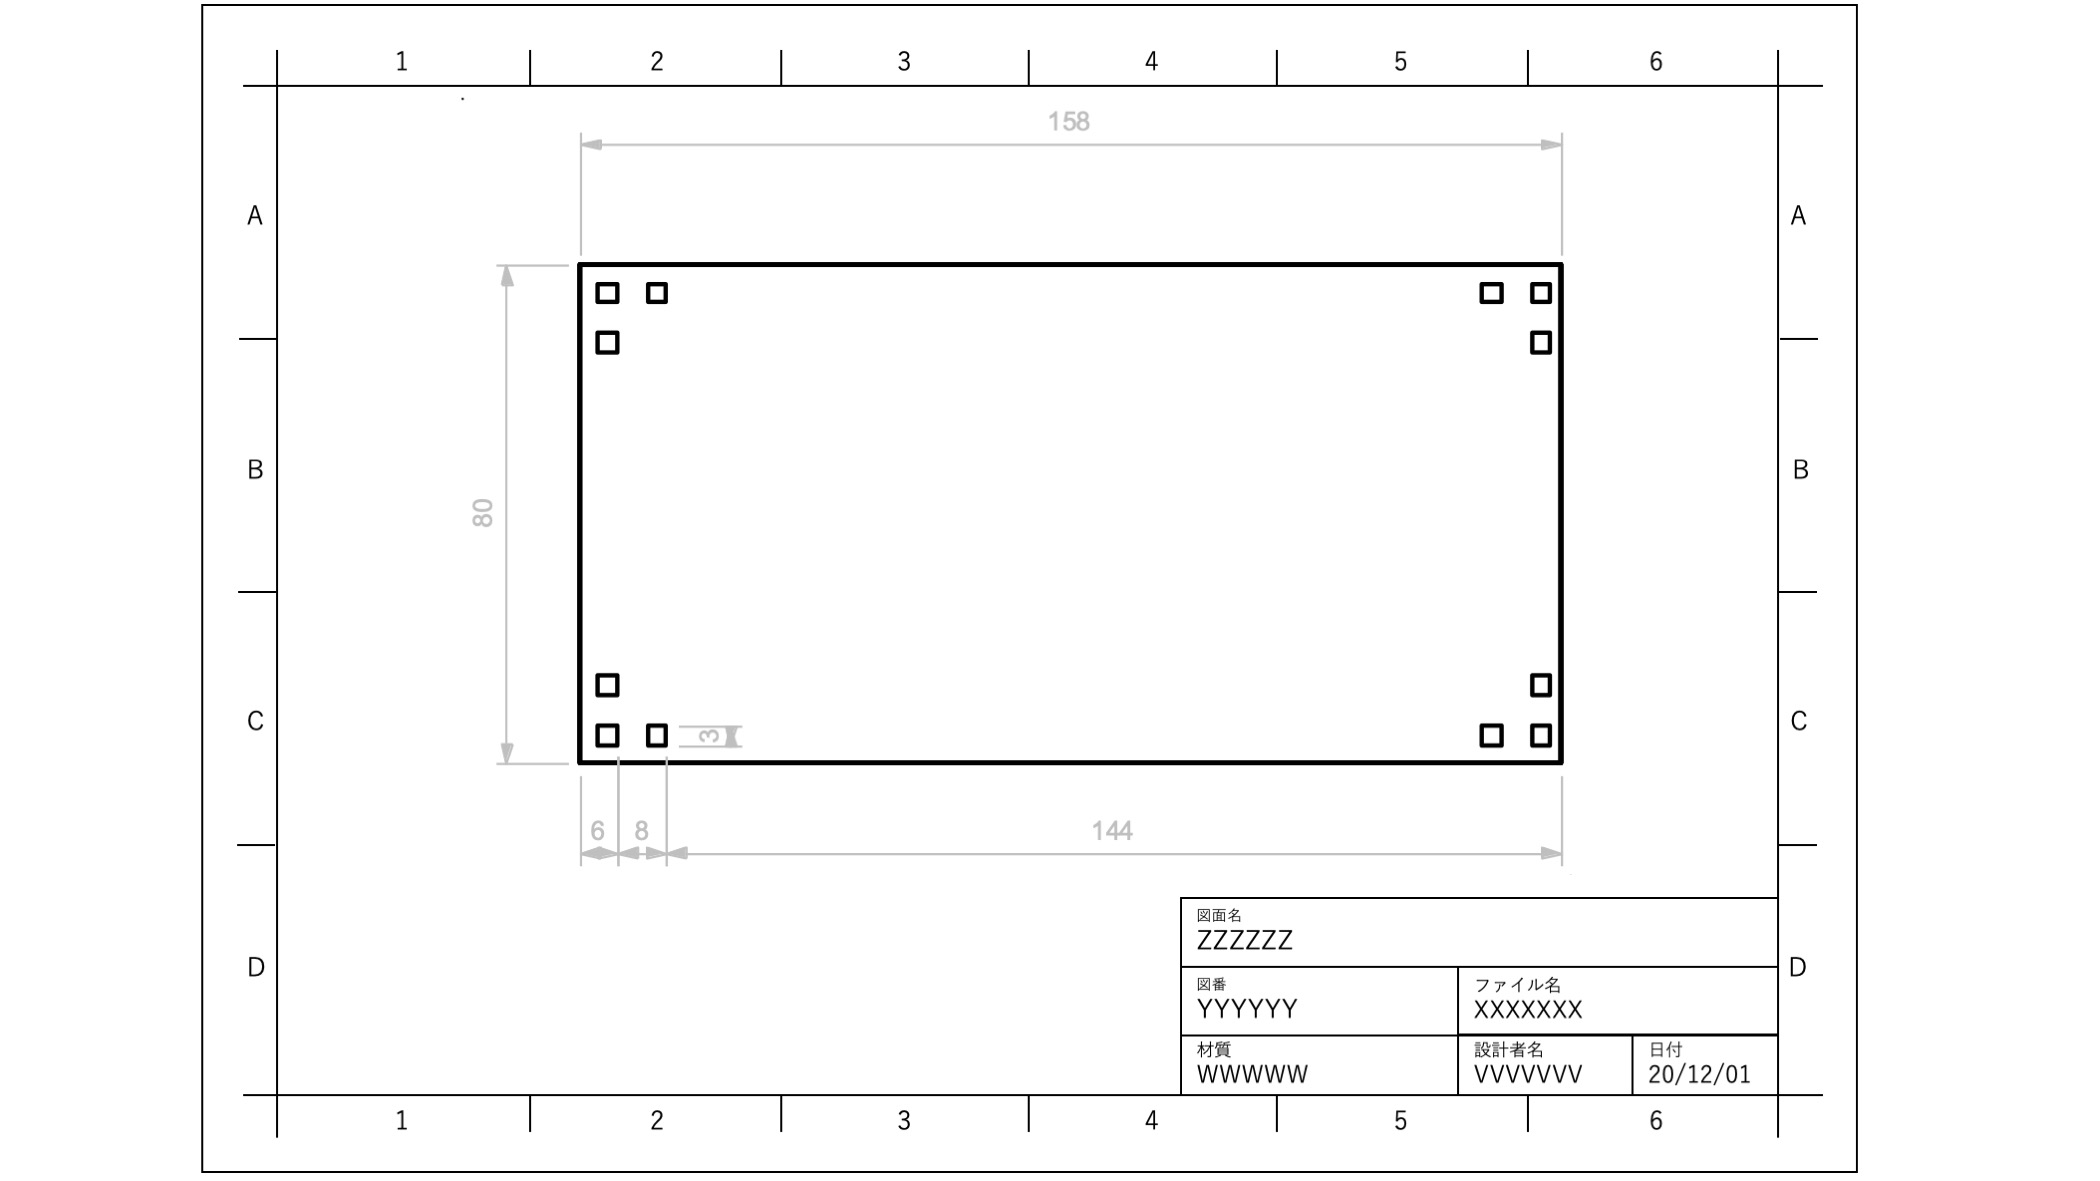rectangle: (588, 274, 625, 309), (640, 714, 672, 748), (591, 326, 625, 358), (588, 666, 622, 696), (591, 717, 620, 750), (1527, 668, 1556, 699), (1477, 720, 1507, 748), (643, 277, 671, 309), (1475, 278, 1506, 306), (1527, 721, 1555, 750), (1527, 327, 1553, 358), (1527, 280, 1553, 306)
